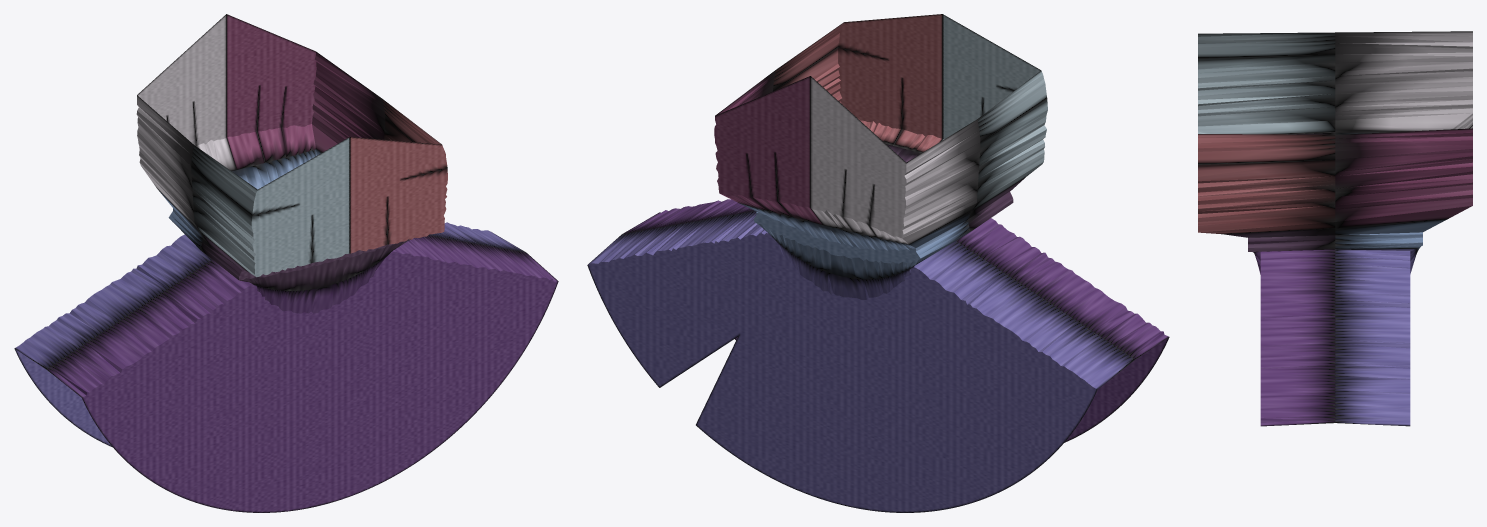
Rendered from valid_garment_wholebody_boxmesh.obj.
3 views of the same model, side by side, from view 1: azimuth 30°, elevation 25°; view 2: azimuth 150°, elevation 25°; view 3: azimuth 270°, elevation 25° (orthographic). The views are drawn at different scales.
Bounding box in the file's own units: 123 × 104 × 55.
1 material, 1 textured.
